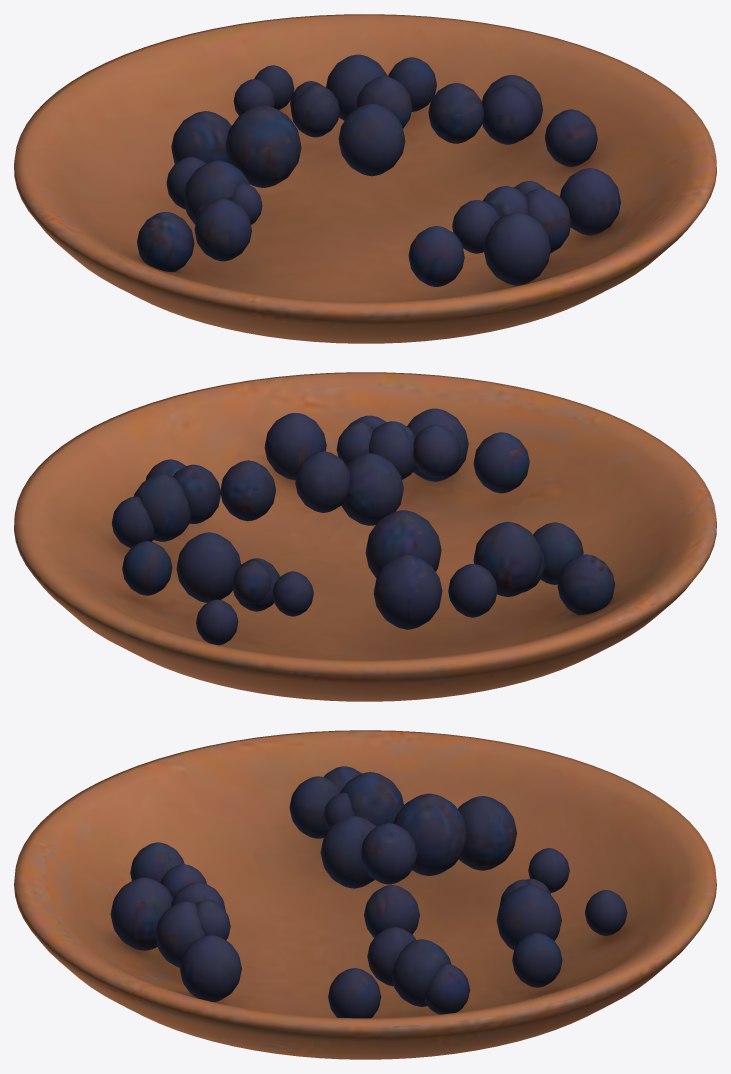
Rendered from juniper.glb.
The picture shows the model from 3 angles, top to bottom: view 1: azimuth 30°, elevation 25°; view 2: azimuth 150°, elevation 25°; view 3: azimuth 270°, elevation 25°; orthographic projection.
Visible parts, largest first — view 1: juniper; view 2: juniper; view 3: juniper.
Part boxes in pixels (x1=…): juniper: x1=14, y1=14, x2=716, y2=343; juniper: x1=14, y1=372, x2=716, y2=701; juniper: x1=14, y1=730, x2=716, y2=1059.
Bounding box in the file's own units: 0.0901 × 0.0236 × 0.0901.
1 material, 1 textured.
